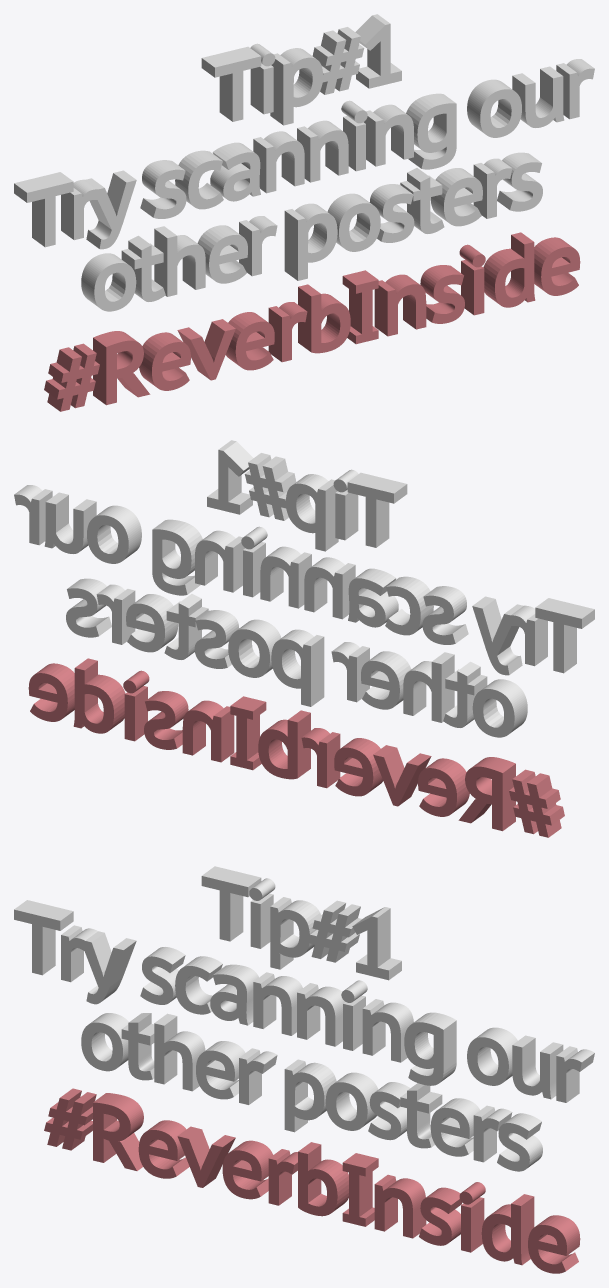
File: asset.glb
The picture shows the model from 3 angles, top to bottom: view 1: azimuth 30°, elevation 25°; view 2: azimuth 150°, elevation 25°; view 3: azimuth 330°, elevation 25°; orthographic projection.
Parts seen in each view (by area): view 1: 3D_Text_1_-_o (×3), 3D_Text_1_-_n (×3), 3D_Text_-_e (×3), 3D_Text_1_-_p (×2), 3D_Text_1_-_s (×3), 3D_Text_1_-_r (×4), 3D_Text_1_-_T (×2), 3D_Text_1_-_e (×2), 3D_Text_1_-_t (×2), 3D_Text_1_-_g, 3D_Text_-_d, 3D_Text_-_R (+16 smaller); view 2: 3D_Text_1_-_o (×3), 3D_Text_1_-_n (×3), 3D_Text_-_e (×3), 3D_Text_1_-_p (×2), 3D_Text_1_-_s (×3), 3D_Text_1_-_r (×4), 3D_Text_1_-_T (×2), 3D_Text_1_-_e (×2), 3D_Text_1_-_t (×2), 3D_Text_1_-_g, 3D_Text_-_d, 3D_Text_-_R (+16 smaller); view 3: 3D_Text_-_e (×3), 3D_Text_1_-_n (×3), 3D_Text_1_-_o (×3), 3D_Text_1_-_s (×3), 3D_Text_1_-_r (×4), 3D_Text_1_-_p (×2), 3D_Text_1_-_T (×2), 3D_Text_1_-_e (×2), 3D_Text_1_-_t (×2), 3D_Text_-_R, 3D_Text_1_-_g, 3D_Text_-_b (+16 smaller).
Boxes of the visible parts, left/top/right/bottom form: 3D_Text_1_-_o (×3): left=81, top=79, right=521, bottom=311; 3D_Text_1_-_n (×3): left=253, top=104, right=413, bottom=193; 3D_Text_-_e (×3): left=139, top=237, right=580, bottom=390; 3D_Text_1_-_p (×2): left=270, top=48, right=337, bottom=280; 3D_Text_1_-_s (×3): left=140, top=152, right=542, bottom=242; 3D_Text_1_-_r (×4): left=61, top=59, right=594, bottom=276; 3D_Text_1_-_T (×2): left=14, top=46, right=261, bottom=247; 3D_Text_1_-_e (×2): left=197, top=168, right=482, bottom=283; 3D_Text_1_-_t (×2): left=121, top=168, right=444, bottom=301; 3D_Text_1_-_g: left=406, top=93, right=456, bottom=169; 3D_Text_-_d: left=483, top=232, right=535, bottom=307; 3D_Text_-_R: left=93, top=331, right=150, bottom=405; 3D_Text_1_-_o (×3): left=87, top=505, right=527, bottom=737; 3D_Text_1_-_n (×3): left=195, top=530, right=355, bottom=619; 3D_Text_-_e (×3): left=28, top=663, right=469, bottom=816; 3D_Text_1_-_p (×2): left=271, top=474, right=338, bottom=706; 3D_Text_1_-_s (×3): left=66, top=578, right=468, bottom=668; 3D_Text_1_-_r (×4): left=14, top=485, right=547, bottom=702; 3D_Text_1_-_T (×2): left=347, top=472, right=594, bottom=673; 3D_Text_1_-_e (×2): left=126, top=594, right=411, bottom=709; 3D_Text_1_-_t (×2): left=164, top=594, right=487, bottom=727; 3D_Text_1_-_g: left=152, top=519, right=202, bottom=595; 3D_Text_-_d: left=73, top=658, right=125, bottom=733; 3D_Text_-_R: left=458, top=757, right=515, bottom=831; 3D_Text_-_e (×3): left=138, top=1120, right=580, bottom=1273; 3D_Text_1_-_n (×3): left=253, top=972, right=413, bottom=1062; 3D_Text_1_-_o (×3): left=81, top=1013, right=517, bottom=1130; 3D_Text_1_-_s (×3): left=140, top=947, right=542, bottom=1171; 3D_Text_1_-_r (×4): left=61, top=925, right=594, bottom=1162; 3D_Text_1_-_p (×2): left=270, top=897, right=336, bottom=1132; 3D_Text_1_-_T (×2): left=14, top=866, right=261, bottom=975; 3D_Text_1_-_e (×2): left=196, top=1041, right=479, bottom=1156; 3D_Text_1_-_t (×2): left=121, top=1013, right=442, bottom=1148; 3D_Text_-_R: left=93, top=1093, right=143, bottom=1170; 3D_Text_1_-_g: left=404, top=1012, right=456, bottom=1085; 3D_Text_-_b: left=298, top=1142, right=348, bottom=1216.
Bounding box in the file's own units: 374 × 197 × 15.
